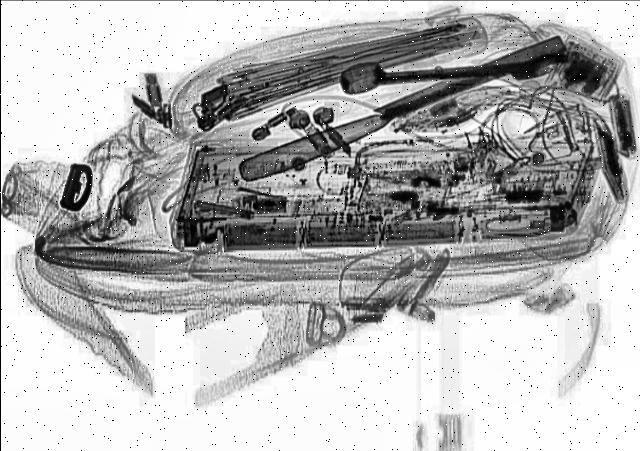Knife: (229, 32, 577, 188)
Wrench: (340, 50, 570, 96)
